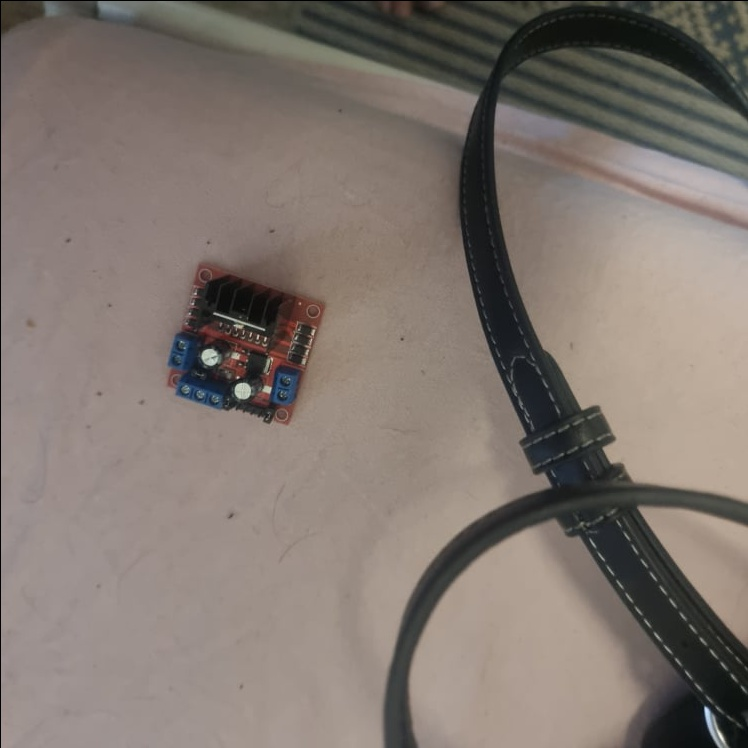MOTOR: (163, 259, 327, 426)
